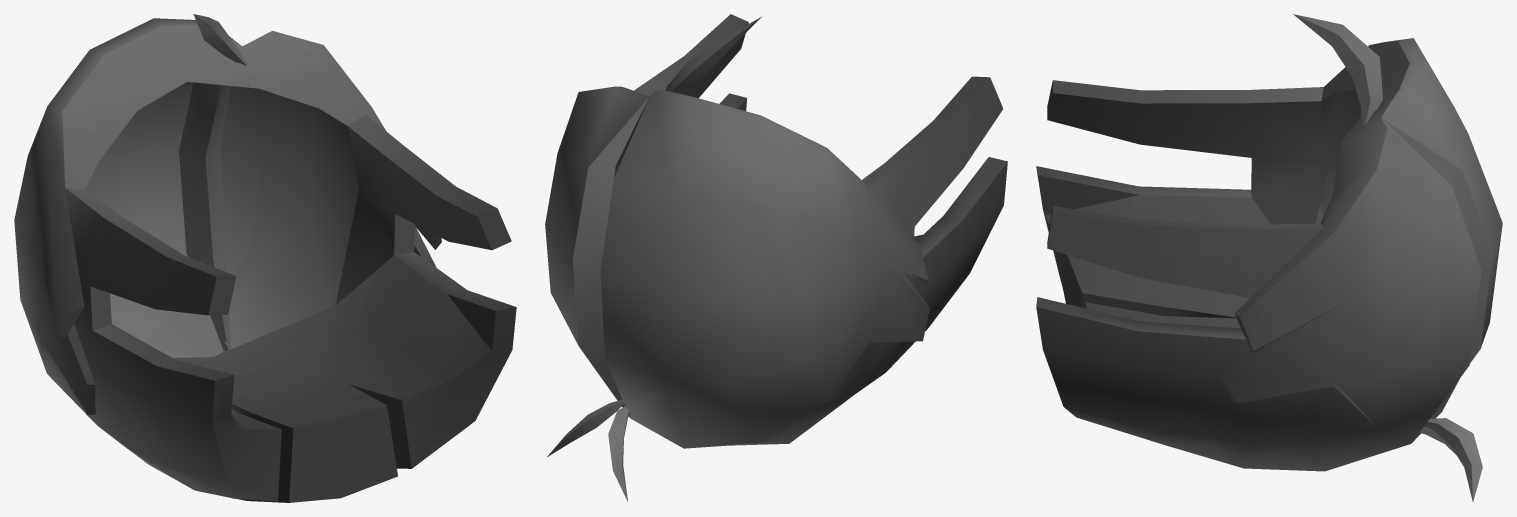
The model's file is Hair 03.FBX.
3 renders of one model, left to right at view 1: azimuth 30°, elevation 25°; view 2: azimuth 150°, elevation 25°; view 3: azimuth 270°, elevation 25°, orthographic. The views are drawn at different scales.
Visible parts, largest first — view 1: Hair 03; view 2: Hair 03; view 3: Hair 03.
Boxes of the visible parts, x1,y1,x2,y2 form: Hair 03: (14,14,516,502); Hair 03: (545,14,1007,502); Hair 03: (1036,14,1502,502).
Bounding box in the file's own units: 53.07 × 63.16 × 59.47.
